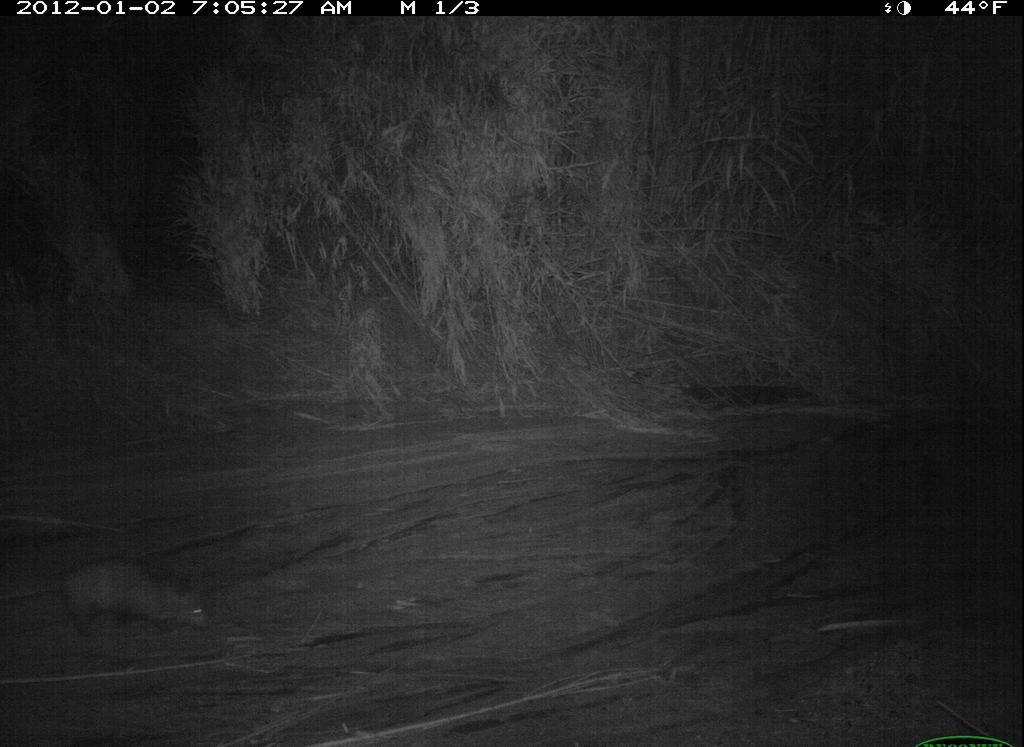opossum: (1, 548, 225, 649)
